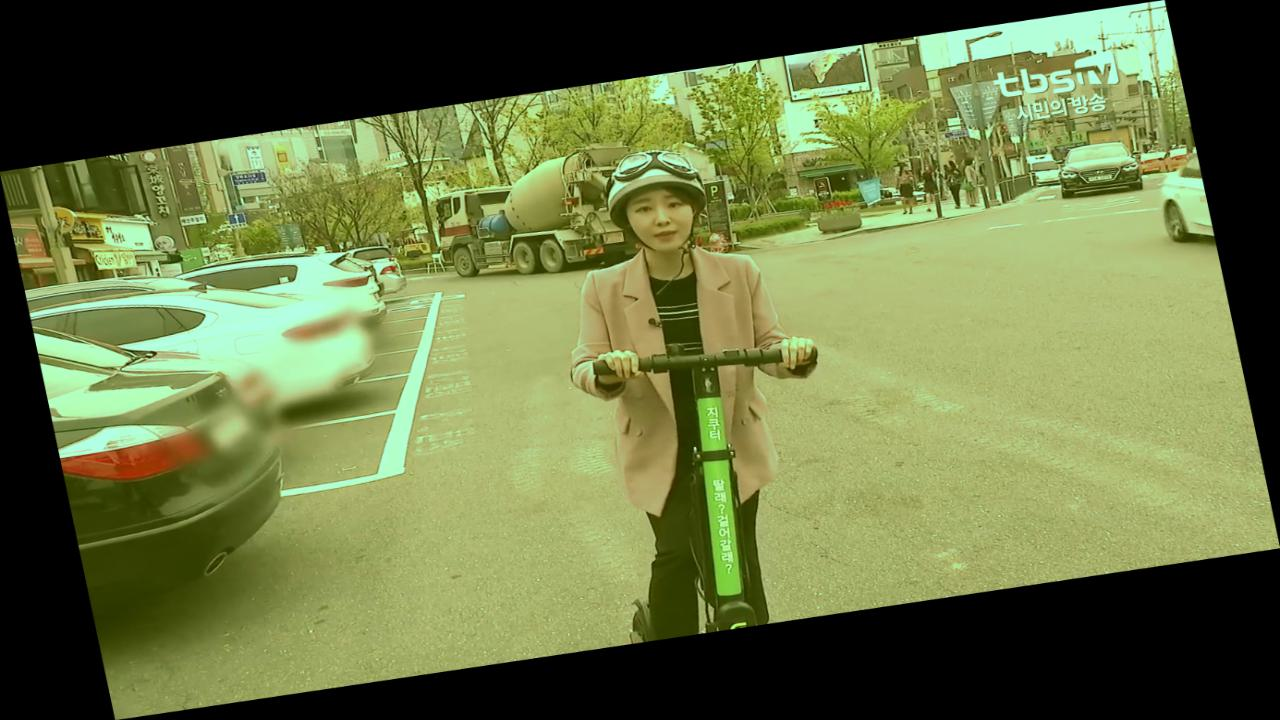helmet: (527, 131, 873, 645)
